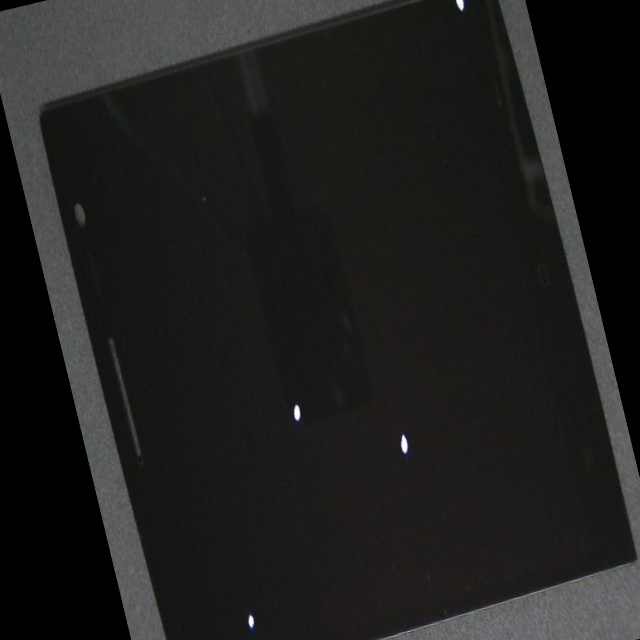stain: (165, 171, 614, 640), (112, 169, 453, 640), (112, 252, 323, 640), (233, 0, 541, 137)
